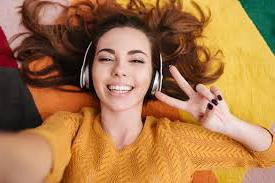face: (92, 28, 153, 112)
